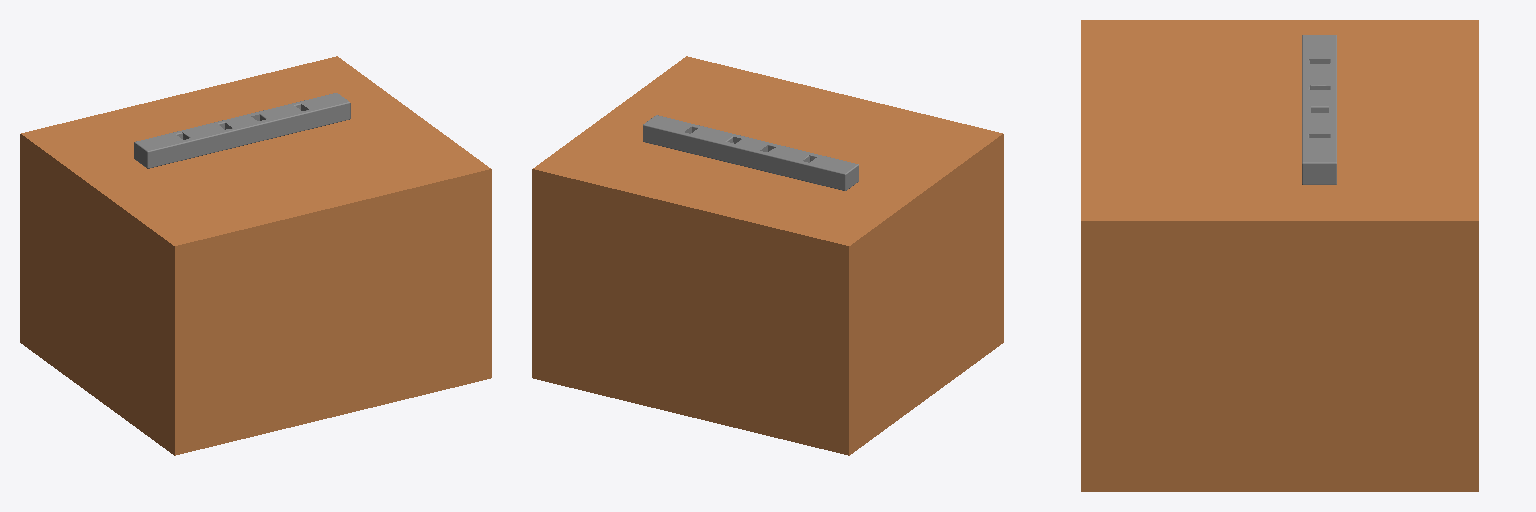
The robot description file, URDF, robot "table_beam_2x_2_scene_0009":
<?xml version="1.0"?>
<robot name="table_beam_2x_2_scene_0009">
  <link name="box">
    <visual>
      <material name="wood"><color rgba="0.82 0.56 0.35 1.0"/></material>
      <origin xyz="0 0 0"/>
      <geometry><box size="0.475 0.4 0.3"/></geometry>
    </visual>
    <collision>
      <origin xyz="0 0 0"/>
      <geometry><box size="0.475 0.4 0.3"/></geometry>
    </collision>
    <inertial>
      <mass value="500"/>
      <friction value="1.0"/>
      <inertia ixx="1000.0" ixy="0.0" ixz="0.0" iyy="1000.0" iyz="0.0" izz="1000.0"/>
    </inertial>
  </link>
  <link name="part_6_hull_0">
    <visual>
      <origin xyz="0 0 0" rpy="0 0 0"/>
      <geometry><mesh filename="../../6/coacd/decomp_0.obj" scale="1 1 1"/></geometry>
      <material name="placed_0"><color rgba="0.6 0.6 0.6 1.0"/></material>
    </visual>
    <collision>
      <origin xyz="0 0 0" rpy="0 0 0"/>
      <geometry><mesh filename="../../6/coacd/decomp_0.obj" scale="1 1 1"/></geometry>
    </collision>
  </link>
  <joint name="part_6_hull_0_joint" type="fixed">
    <parent link="box"/>
    <child link="part_6_hull_0"/>
    <origin xyz="0.002576 0.039741 0.162666" rpy="0.000000 0.000000 0.000000"/>
  </joint>
  <link name="part_6_hull_1">
    <visual>
      <origin xyz="0 0 0" rpy="0 0 0"/>
      <geometry><mesh filename="../../6/coacd/decomp_1.obj" scale="1 1 1"/></geometry>
      <material name="placed_1"><color rgba="0.6 0.6 0.6 1.0"/></material>
    </visual>
    <collision>
      <origin xyz="0 0 0" rpy="0 0 0"/>
      <geometry><mesh filename="../../6/coacd/decomp_1.obj" scale="1 1 1"/></geometry>
    </collision>
  </link>
  <joint name="part_6_hull_1_joint" type="fixed">
    <parent link="box"/>
    <child link="part_6_hull_1"/>
    <origin xyz="0.002576 0.039741 0.162666" rpy="0.000000 0.000000 0.000000"/>
  </joint>
  <link name="part_6_hull_2">
    <visual>
      <origin xyz="0 0 0" rpy="0 0 0"/>
      <geometry><mesh filename="../../6/coacd/decomp_10.obj" scale="1 1 1"/></geometry>
      <material name="placed_2"><color rgba="0.6 0.6 0.6 1.0"/></material>
    </visual>
    <collision>
      <origin xyz="0 0 0" rpy="0 0 0"/>
      <geometry><mesh filename="../../6/coacd/decomp_10.obj" scale="1 1 1"/></geometry>
    </collision>
  </link>
  <joint name="part_6_hull_2_joint" type="fixed">
    <parent link="box"/>
    <child link="part_6_hull_2"/>
    <origin xyz="0.002576 0.039741 0.162666" rpy="0.000000 0.000000 0.000000"/>
  </joint>
  <link name="part_6_hull_3">
    <visual>
      <origin xyz="0 0 0" rpy="0 0 0"/>
      <geometry><mesh filename="../../6/coacd/decomp_11.obj" scale="1 1 1"/></geometry>
      <material name="placed_3"><color rgba="0.6 0.6 0.6 1.0"/></material>
    </visual>
    <collision>
      <origin xyz="0 0 0" rpy="0 0 0"/>
      <geometry><mesh filename="../../6/coacd/decomp_11.obj" scale="1 1 1"/></geometry>
    </collision>
  </link>
  <joint name="part_6_hull_3_joint" type="fixed">
    <parent link="box"/>
    <child link="part_6_hull_3"/>
    <origin xyz="0.002576 0.039741 0.162666" rpy="0.000000 0.000000 0.000000"/>
  </joint>
  <link name="part_6_hull_4">
    <visual>
      <origin xyz="0 0 0" rpy="0 0 0"/>
      <geometry><mesh filename="../../6/coacd/decomp_12.obj" scale="1 1 1"/></geometry>
      <material name="placed_4"><color rgba="0.6 0.6 0.6 1.0"/></material>
    </visual>
    <collision>
      <origin xyz="0 0 0" rpy="0 0 0"/>
      <geometry><mesh filename="../../6/coacd/decomp_12.obj" scale="1 1 1"/></geometry>
    </collision>
  </link>
  <joint name="part_6_hull_4_joint" type="fixed">
    <parent link="box"/>
    <child link="part_6_hull_4"/>
    <origin xyz="0.002576 0.039741 0.162666" rpy="0.000000 0.000000 0.000000"/>
  </joint>
  <link name="part_6_hull_5">
    <visual>
      <origin xyz="0 0 0" rpy="0 0 0"/>
      <geometry><mesh filename="../../6/coacd/decomp_13.obj" scale="1 1 1"/></geometry>
      <material name="placed_5"><color rgba="0.6 0.6 0.6 1.0"/></material>
    </visual>
    <collision>
      <origin xyz="0 0 0" rpy="0 0 0"/>
      <geometry><mesh filename="../../6/coacd/decomp_13.obj" scale="1 1 1"/></geometry>
    </collision>
  </link>
  <joint name="part_6_hull_5_joint" type="fixed">
    <parent link="box"/>
    <child link="part_6_hull_5"/>
    <origin xyz="0.002576 0.039741 0.162666" rpy="0.000000 0.000000 0.000000"/>
  </joint>
  <link name="part_6_hull_6">
    <visual>
      <origin xyz="0 0 0" rpy="0 0 0"/>
      <geometry><mesh filename="../../6/coacd/decomp_2.obj" scale="1 1 1"/></geometry>
      <material name="placed_6"><color rgba="0.6 0.6 0.6 1.0"/></material>
    </visual>
    <collision>
      <origin xyz="0 0 0" rpy="0 0 0"/>
      <geometry><mesh filename="../../6/coacd/decomp_2.obj" scale="1 1 1"/></geometry>
    </collision>
  </link>
  <joint name="part_6_hull_6_joint" type="fixed">
    <parent link="box"/>
    <child link="part_6_hull_6"/>
    <origin xyz="0.002576 0.039741 0.162666" rpy="0.000000 0.000000 0.000000"/>
  </joint>
  <link name="part_6_hull_7">
    <visual>
      <origin xyz="0 0 0" rpy="0 0 0"/>
      <geometry><mesh filename="../../6/coacd/decomp_3.obj" scale="1 1 1"/></geometry>
      <material name="placed_7"><color rgba="0.6 0.6 0.6 1.0"/></material>
    </visual>
    <collision>
      <origin xyz="0 0 0" rpy="0 0 0"/>
      <geometry><mesh filename="../../6/coacd/decomp_3.obj" scale="1 1 1"/></geometry>
    </collision>
  </link>
  <joint name="part_6_hull_7_joint" type="fixed">
    <parent link="box"/>
    <child link="part_6_hull_7"/>
    <origin xyz="0.002576 0.039741 0.162666" rpy="0.000000 0.000000 0.000000"/>
  </joint>
  <link name="part_6_hull_8">
    <visual>
      <origin xyz="0 0 0" rpy="0 0 0"/>
      <geometry><mesh filename="../../6/coacd/decomp_4.obj" scale="1 1 1"/></geometry>
      <material name="placed_8"><color rgba="0.6 0.6 0.6 1.0"/></material>
    </visual>
    <collision>
      <origin xyz="0 0 0" rpy="0 0 0"/>
      <geometry><mesh filename="../../6/coacd/decomp_4.obj" scale="1 1 1"/></geometry>
    </collision>
  </link>
  <joint name="part_6_hull_8_joint" type="fixed">
    <parent link="box"/>
    <child link="part_6_hull_8"/>
    <origin xyz="0.002576 0.039741 0.162666" rpy="0.000000 0.000000 0.000000"/>
  </joint>
  <link name="part_6_hull_9">
    <visual>
      <origin xyz="0 0 0" rpy="0 0 0"/>
      <geometry><mesh filename="../../6/coacd/decomp_5.obj" scale="1 1 1"/></geometry>
      <material name="placed_9"><color rgba="0.6 0.6 0.6 1.0"/></material>
    </visual>
    <collision>
      <origin xyz="0 0 0" rpy="0 0 0"/>
      <geometry><mesh filename="../../6/coacd/decomp_5.obj" scale="1 1 1"/></geometry>
    </collision>
  </link>
  <joint name="part_6_hull_9_joint" type="fixed">
    <parent link="box"/>
    <child link="part_6_hull_9"/>
    <origin xyz="0.002576 0.039741 0.162666" rpy="0.000000 0.000000 0.000000"/>
  </joint>
  <link name="part_6_hull_10">
    <visual>
      <origin xyz="0 0 0" rpy="0 0 0"/>
      <geometry><mesh filename="../../6/coacd/decomp_6.obj" scale="1 1 1"/></geometry>
      <material name="placed_10"><color rgba="0.6 0.6 0.6 1.0"/></material>
    </visual>
    <collision>
      <origin xyz="0 0 0" rpy="0 0 0"/>
      <geometry><mesh filename="../../6/coacd/decomp_6.obj" scale="1 1 1"/></geometry>
    </collision>
  </link>
  <joint name="part_6_hull_10_joint" type="fixed">
    <parent link="box"/>
    <child link="part_6_hull_10"/>
    <origin xyz="0.002576 0.039741 0.162666" rpy="0.000000 0.000000 0.000000"/>
  </joint>
  <link name="part_6_hull_11">
    <visual>
      <origin xyz="0 0 0" rpy="0 0 0"/>
      <geometry><mesh filename="../../6/coacd/decomp_7.obj" scale="1 1 1"/></geometry>
      <material name="placed_11"><color rgba="0.6 0.6 0.6 1.0"/></material>
    </visual>
    <collision>
      <origin xyz="0 0 0" rpy="0 0 0"/>
      <geometry><mesh filename="../../6/coacd/decomp_7.obj" scale="1 1 1"/></geometry>
    </collision>
  </link>
  <joint name="part_6_hull_11_joint" type="fixed">
    <parent link="box"/>
    <child link="part_6_hull_11"/>
    <origin xyz="0.002576 0.039741 0.162666" rpy="0.000000 0.000000 0.000000"/>
  </joint>
  <link name="part_6_hull_12">
    <visual>
      <origin xyz="0 0 0" rpy="0 0 0"/>
      <geometry><mesh filename="../../6/coacd/decomp_8.obj" scale="1 1 1"/></geometry>
      <material name="placed_12"><color rgba="0.6 0.6 0.6 1.0"/></material>
    </visual>
    <collision>
      <origin xyz="0 0 0" rpy="0 0 0"/>
      <geometry><mesh filename="../../6/coacd/decomp_8.obj" scale="1 1 1"/></geometry>
    </collision>
  </link>
  <joint name="part_6_hull_12_joint" type="fixed">
    <parent link="box"/>
    <child link="part_6_hull_12"/>
    <origin xyz="0.002576 0.039741 0.162666" rpy="0.000000 0.000000 0.000000"/>
  </joint>
  <link name="part_6_hull_13">
    <visual>
      <origin xyz="0 0 0" rpy="0 0 0"/>
      <geometry><mesh filename="../../6/coacd/decomp_9.obj" scale="1 1 1"/></geometry>
      <material name="placed_13"><color rgba="0.6 0.6 0.6 1.0"/></material>
    </visual>
    <collision>
      <origin xyz="0 0 0" rpy="0 0 0"/>
      <geometry><mesh filename="../../6/coacd/decomp_9.obj" scale="1 1 1"/></geometry>
    </collision>
  </link>
  <joint name="part_6_hull_13_joint" type="fixed">
    <parent link="box"/>
    <child link="part_6_hull_13"/>
    <origin xyz="0.002576 0.039741 0.162666" rpy="0.000000 0.000000 0.000000"/>
  </joint>
</robot>

--- Facts derived from the render (not from the file) ---
3 views of the same robot in one strip: view 1: azimuth 30°, elevation 25°; view 2: azimuth 150°, elevation 25°; view 3: azimuth 270°, elevation 25° (orthographic).
Robot: table_beam_2x_2_scene_0009 — 15 links, 14 joints (14 fixed); root link box; default pose: every joint at zero.
Visible links, largest first — view 1: box, part_6_hull_1, part_6_hull_0, part_6_hull_9, part_6_hull_5, part_6_hull_3; view 2: box, part_6_hull_1, part_6_hull_0, part_6_hull_2, part_6_hull_5, part_6_hull_12; view 3: box, part_6_hull_0, part_6_hull_1, part_6_hull_5, part_6_hull_2.
Link boxes in pixels (left/top/right/bottom): box: left=20, top=56, right=491, bottom=455; part_6_hull_1: left=134, top=133, right=185, bottom=168; part_6_hull_0: left=300, top=93, right=350, bottom=128; part_6_hull_9: left=184, top=128, right=235, bottom=159; part_6_hull_5: left=265, top=104, right=304, bottom=136; part_6_hull_3: left=237, top=117, right=277, bottom=145; box: left=532, top=56, right=1003, bottom=455; part_6_hull_1: left=807, top=155, right=858, bottom=190; part_6_hull_0: left=643, top=115, right=693, bottom=150; part_6_hull_2: left=765, top=147, right=809, bottom=179; part_6_hull_5: left=688, top=126, right=727, bottom=158; part_6_hull_12: left=715, top=140, right=756, bottom=168; box: left=1081, top=20, right=1478, bottom=491; part_6_hull_0: left=1302, top=138, right=1336, bottom=184; part_6_hull_1: left=1302, top=35, right=1336, bottom=63; part_6_hull_5: left=1302, top=117, right=1336, bottom=137; part_6_hull_2: left=1311, top=63, right=1336, bottom=89.
Bounding box of the posed robot: 0.475 × 0.4 × 0.3254 m (x, y, z).
Meshes: 14 distinct files referenced, 14 mesh visuals loaded (14 OBJ).
